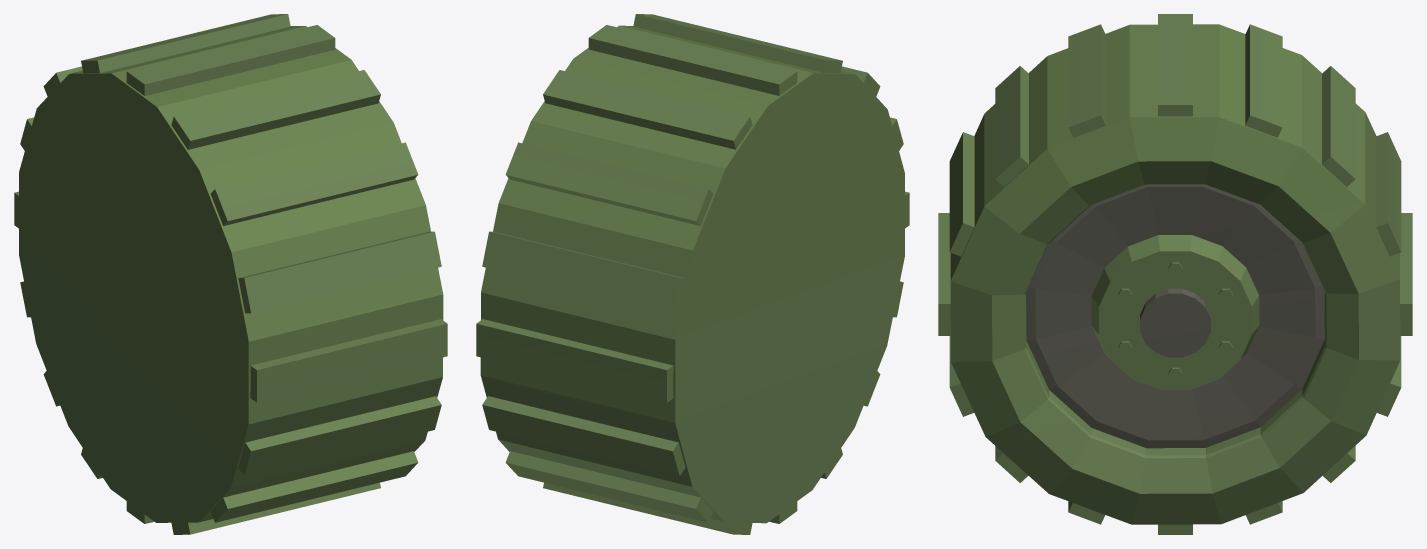
Rendered from Wheel_06.fbx.
3 views of the same model, side by side, from view 1: azimuth 30°, elevation 25°; view 2: azimuth 150°, elevation 25°; view 3: azimuth 270°, elevation 25° (orthographic). The views are drawn at different scales.
Parts seen in each view (by area): view 1: Wheel_06; view 2: Wheel_06; view 3: Wheel_06.
Boxes of the visible parts, <box> form: Wheel_06: <box>14,14,447,534</box>; Wheel_06: <box>476,14,909,534</box>; Wheel_06: <box>938,14,1412,534</box>.
Bounding box in the file's own units: 0.3725 × 0.7514 × 0.7514.
